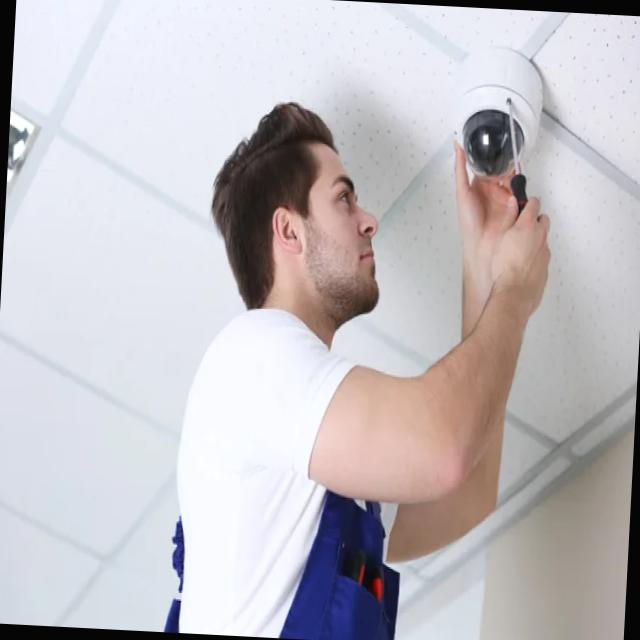no_helmet: (174, 72, 425, 358)
